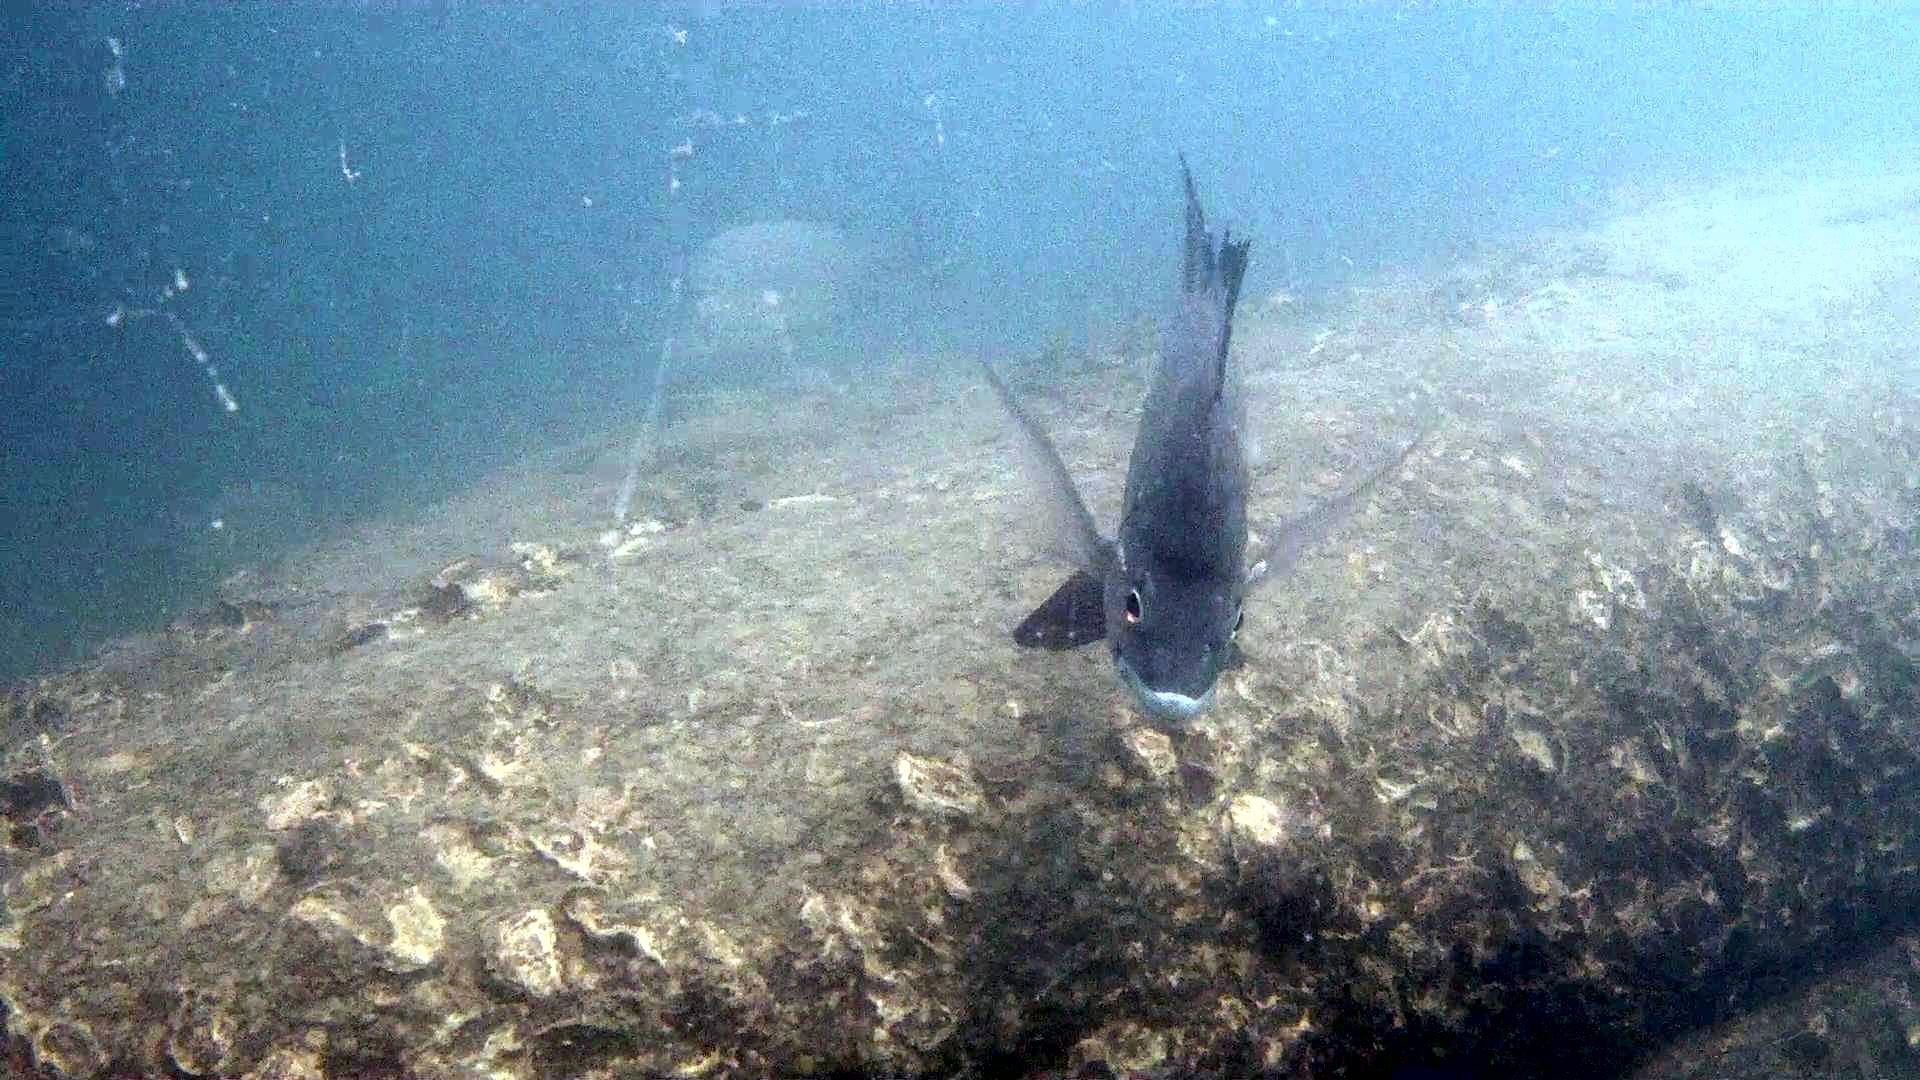acanthopagrus palmaris: (949, 137, 1441, 737)
